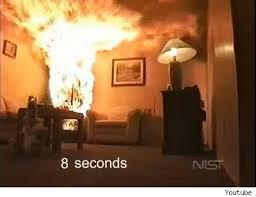fire: (14, 9, 148, 116), (167, 45, 178, 56)
